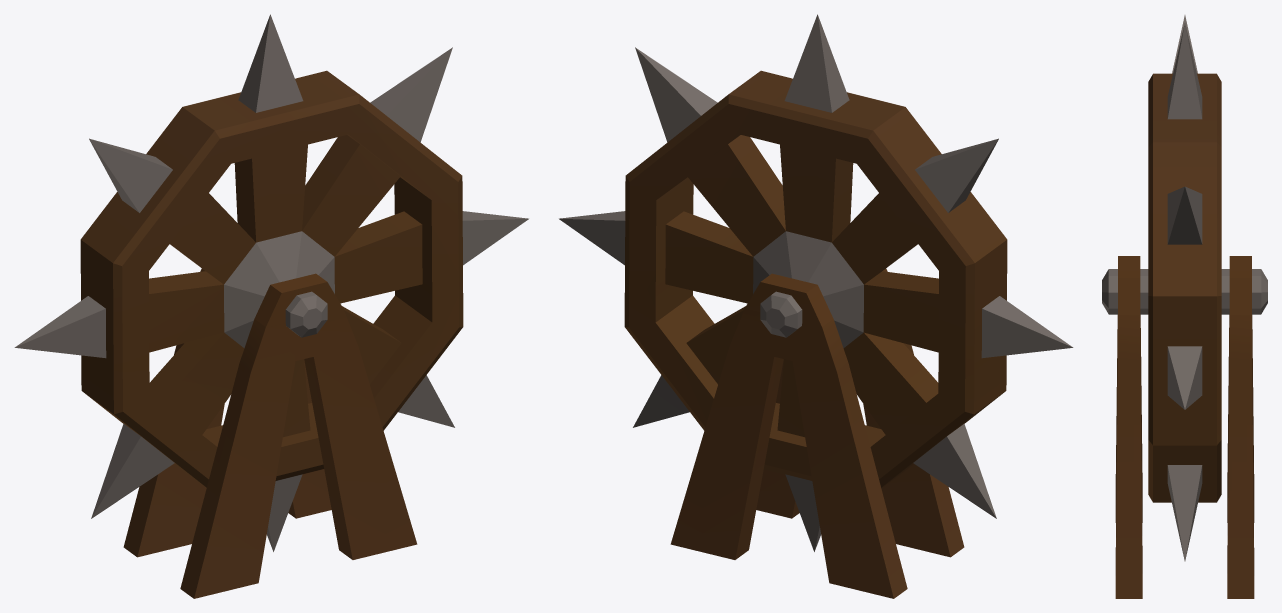
Rendered from Spike_Wheel.fbx.
The picture shows the model from 3 angles, left to right: view 1: azimuth 30°, elevation 25°; view 2: azimuth 150°, elevation 25°; view 3: azimuth 270°, elevation 25°; orthographic projection.
Parts seen in each view (by area): view 1: Pain_wheel, Spike_Wheel_Base; view 2: Pain_wheel, Spike_Wheel_Base; view 3: Pain_wheel, Spike_Wheel_Base.
Part boxes in pixels (left/top/right/bottom): Pain_wheel: left=14, top=14, right=528, bottom=551; Spike_Wheel_Base: left=123, top=268, right=417, bottom=598; Pain_wheel: left=559, top=14, right=1073, bottom=551; Spike_Wheel_Base: left=670, top=268, right=964, bottom=598; Pain_wheel: left=1102, top=15, right=1267, bottom=561; Spike_Wheel_Base: left=1115, top=256, right=1254, bottom=598.
Bounding box in the file's own units: 238 × 238 × 67.42.
